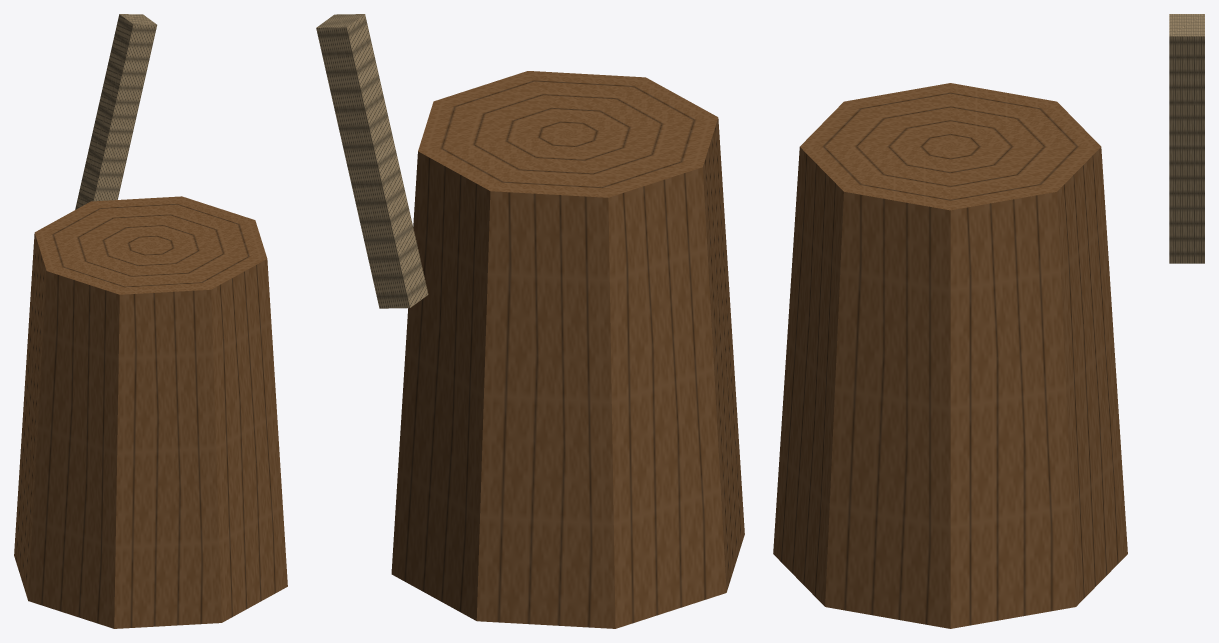
Rendered from military-FIRE_SEED-1-lod0.glb.
3 renders of one model, left to right at view 1: azimuth 30°, elevation 25°; view 2: azimuth 150°, elevation 25°; view 3: azimuth 270°, elevation 25°, orthographic. The views are drawn at different scales.
Size of the model in its own units: 0.15 by 0.2718 by 0.1825.
Materials: 1 (1 with a texture image).
